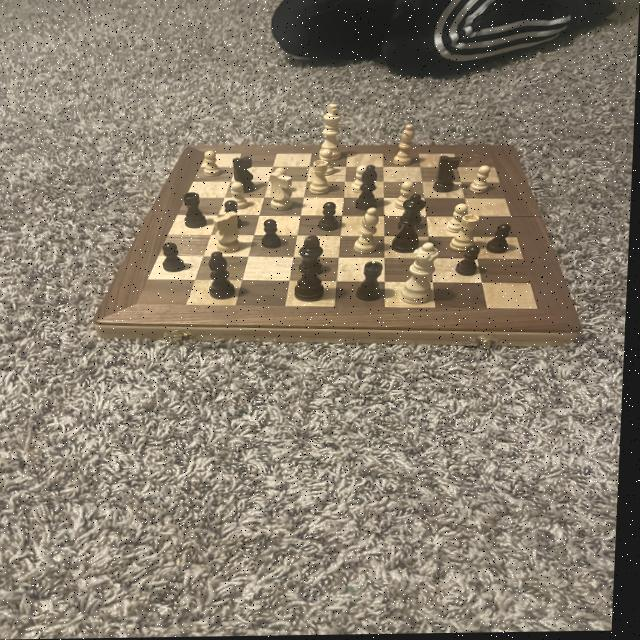bishop: (207, 250, 243, 303), (354, 163, 383, 210)
black-bishop: (291, 234, 338, 305)
black-king: (229, 155, 260, 193), (435, 155, 463, 195)
black-knight: (299, 246, 333, 280), (457, 244, 486, 281), (320, 200, 347, 235), (488, 224, 517, 256), (162, 241, 189, 274), (260, 218, 287, 251), (397, 210, 431, 233), (224, 201, 247, 228)
black-pawn: (392, 193, 429, 256)
black-queen: (356, 261, 388, 303), (183, 191, 213, 232)
black-rook: (350, 207, 384, 257), (394, 124, 418, 169)
white-bishop: (315, 104, 352, 163)
white-king: (213, 210, 247, 257), (266, 171, 296, 213)
white-knight: (316, 147, 344, 179), (469, 166, 497, 196), (228, 180, 255, 211), (394, 181, 420, 213), (273, 166, 300, 195), (448, 204, 473, 234), (202, 150, 225, 179), (352, 164, 372, 194)
white-pawn: (399, 243, 446, 307)
white-queen: (452, 212, 487, 256), (309, 160, 337, 199)
